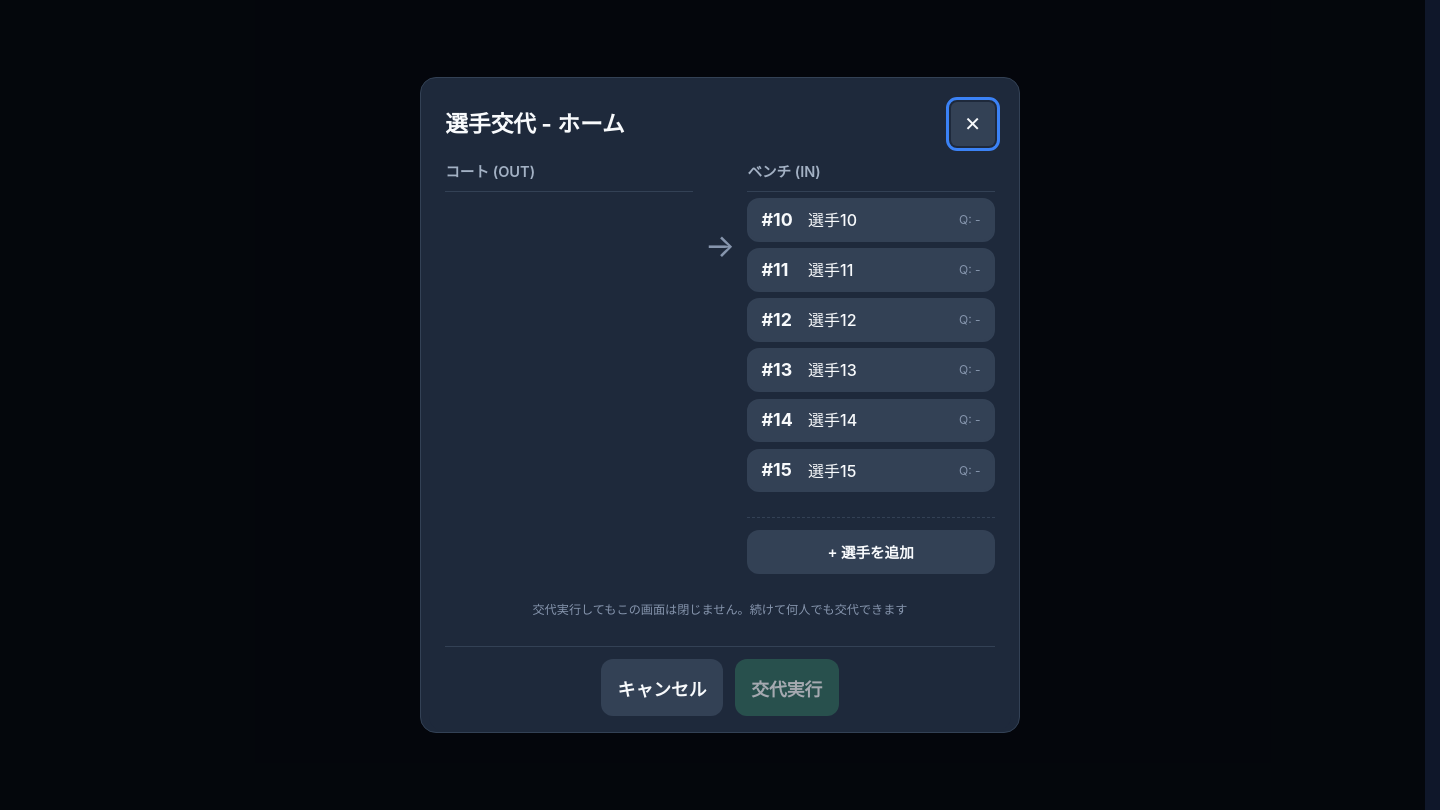
Scenario: SubstitutionModal: 様式からあふれる選手の案内 › 15人で若い番号を入れると、押し出される既存選手を名指しする
Click the button "+ 選手を追加": (871, 552) [747,530,995,574]
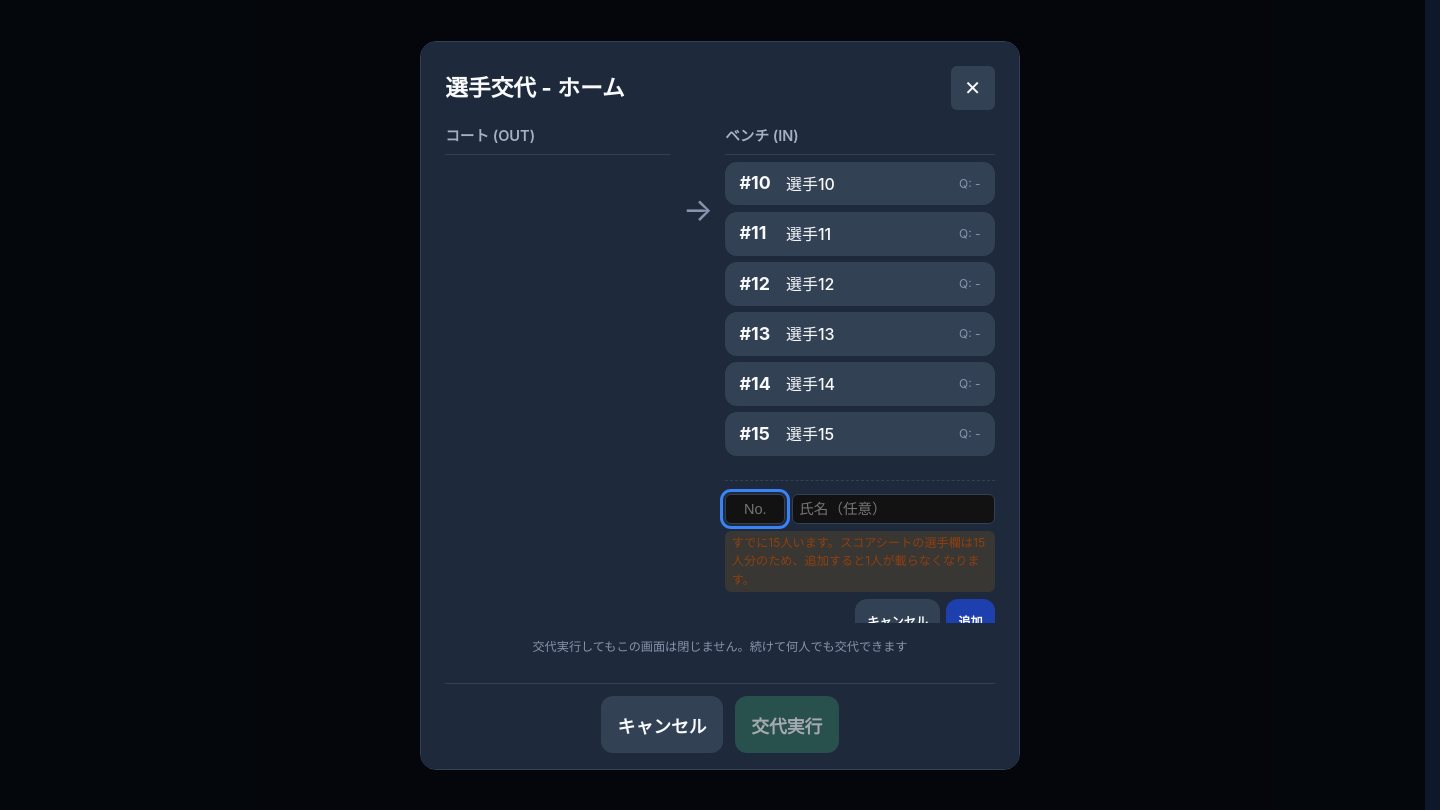
In the field with placeholder "No.": (755, 509) [725,494,785,524], type "4"
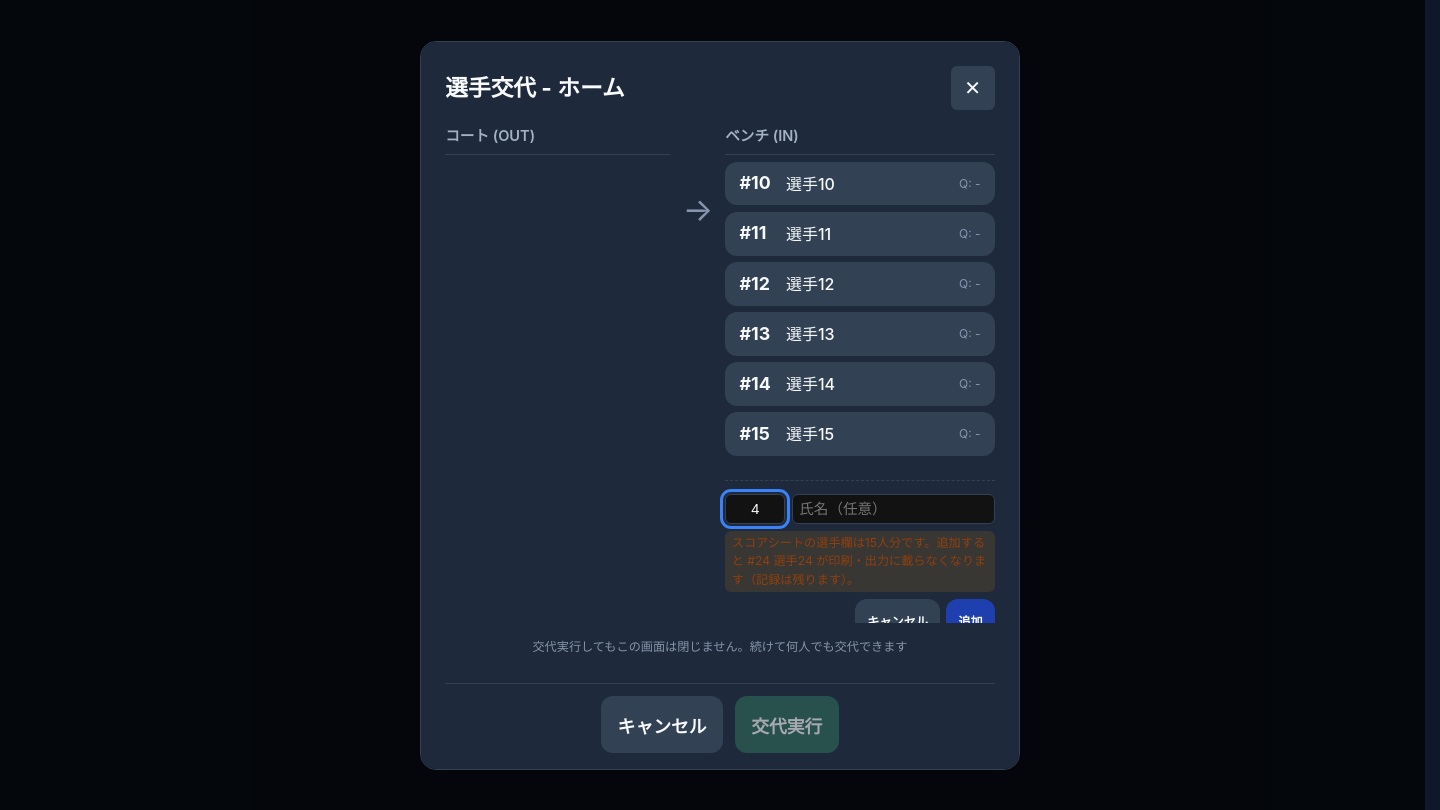
Expected: the message with class "add-player-notice" shows "24", [732,535,986,587]
Expected: the message with class "add-player-notice" shows "選手24", [732,535,986,587]
